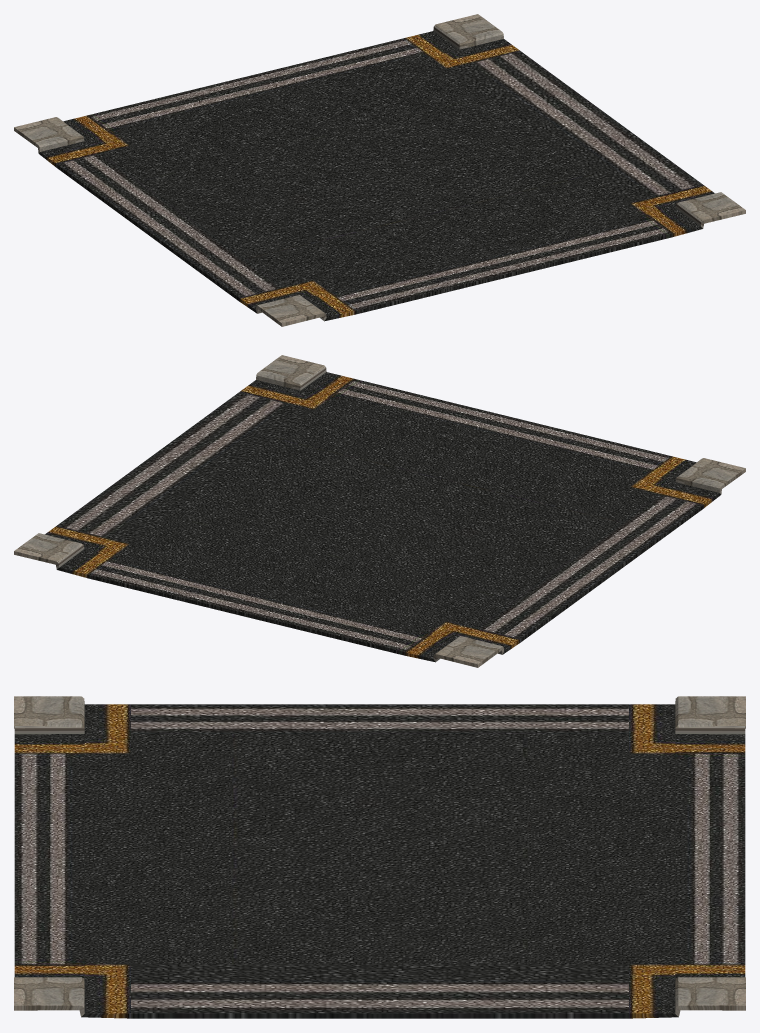
File: modular-city-road-pack-game-ready-4in-2-004-3.glb
3 views of the same model, one above another, from view 1: azimuth 30°, elevation 25°; view 2: azimuth 150°, elevation 25°; view 3: azimuth 270°, elevation 25° (orthographic). The views are drawn at different scales.
Parts seen in each view (by area): view 1: 4in 2.004_3; view 2: 4in 2.004_3; view 3: 4in 2.004_3.
Part boxes in pixels (x1=…): 4in 2.004_3: x1=14, y1=14, x2=745, y2=326; 4in 2.004_3: x1=14, y1=355, x2=745, y2=667; 4in 2.004_3: x1=14, y1=696, x2=745, y2=1018.
Size of the model in its own units: 2.7 by 0.0526 by 2.71.
2 materials, 2 textured.
